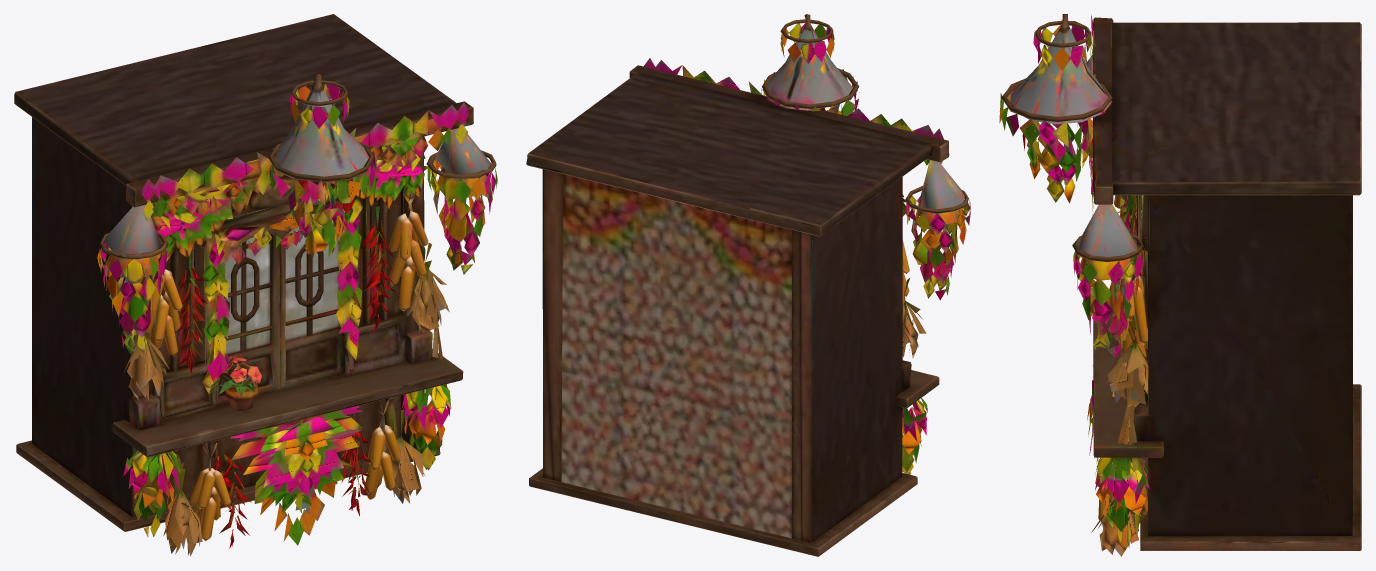
File: pahiyas-window.glb
The picture shows the model from 3 angles, left to right: view 1: azimuth 30°, elevation 25°; view 2: azimuth 150°, elevation 25°; view 3: azimuth 270°, elevation 25°; orthographic projection. The views are drawn at different scales.
Parts seen in each view (by area): view 1: geometry_0; view 2: geometry_0; view 3: geometry_0.
Boxes of the visible parts, x1,y1,x2,y2 form: geometry_0: [14, 14, 497, 556]; geometry_0: [526, 14, 970, 556]; geometry_0: [999, 14, 1361, 556].
Size of the model in its own units: 0.7969 by 0.9526 by 0.6275.
Materials: 1 (1 with a texture image).
